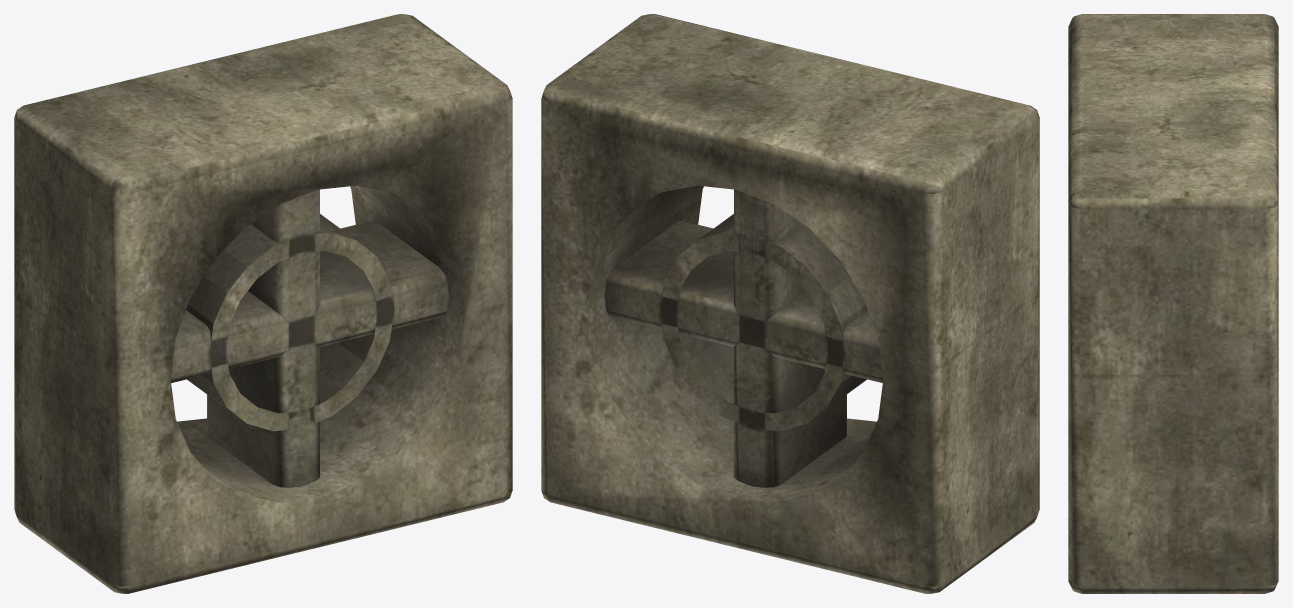
The model's file is vent_block.glb.
The picture shows the model from 3 angles, left to right: view 1: azimuth 30°, elevation 25°; view 2: azimuth 150°, elevation 25°; view 3: azimuth 270°, elevation 25°; orthographic projection. The views are drawn at different scales.
Visible parts, largest first — view 1: vent_block; view 2: vent_block; view 3: vent_block.
Part boxes in pixels (box(x1,y1,x2,y2)): vent_block: box(14, 14, 512, 593); vent_block: box(541, 14, 1039, 593); vent_block: box(1068, 14, 1278, 593).
Bounding box in the file's own units: 0.19 × 0.19 × 0.09.
1 material, 1 textured.
